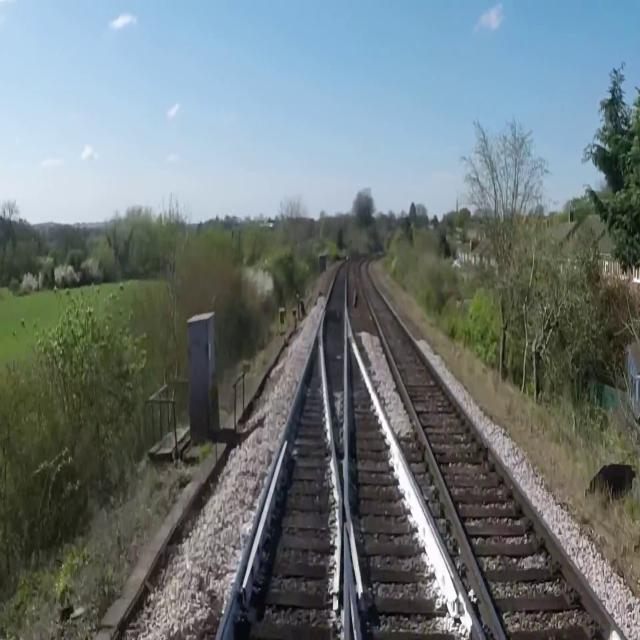rail-track: (360, 259, 621, 639), (347, 318, 481, 639), (220, 323, 344, 639), (324, 260, 351, 505)
